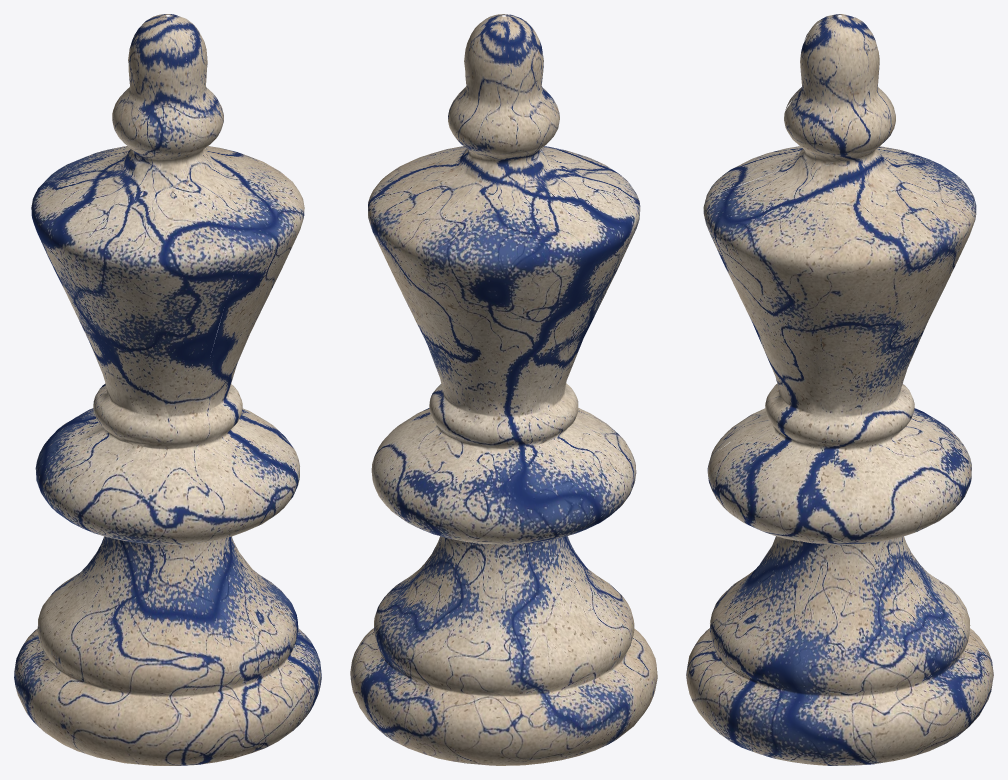
File: king-white.glb
The picture shows the model from 3 angles, left to right: view 1: azimuth 30°, elevation 25°; view 2: azimuth 150°, elevation 25°; view 3: azimuth 270°, elevation 25°; orthographic projection.
Visible parts, largest first — view 1: Cobalt Vein white king; view 2: Cobalt Vein white king; view 3: Cobalt Vein white king.
Part boxes in pixels (x1,y1,x2,y2): Cobalt Vein white king: (14, 14, 321, 765); Cobalt Vein white king: (350, 14, 657, 765); Cobalt Vein white king: (686, 14, 993, 765).
Size of the model in its own units: 0.6601 by 1.65 by 0.6611.
1 material, 1 textured.
